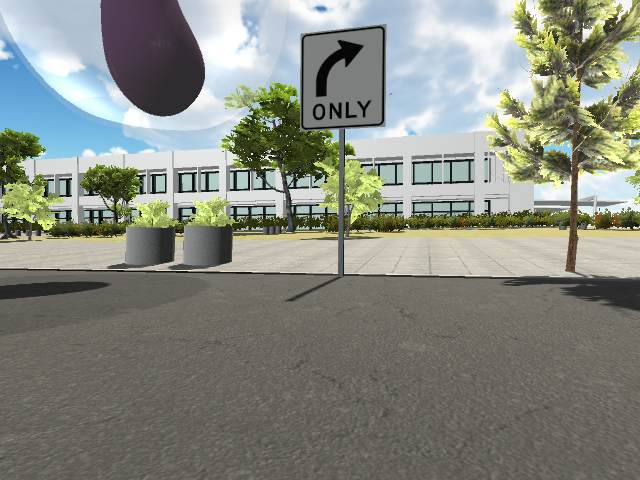arrow_right: (312, 39, 366, 99)
